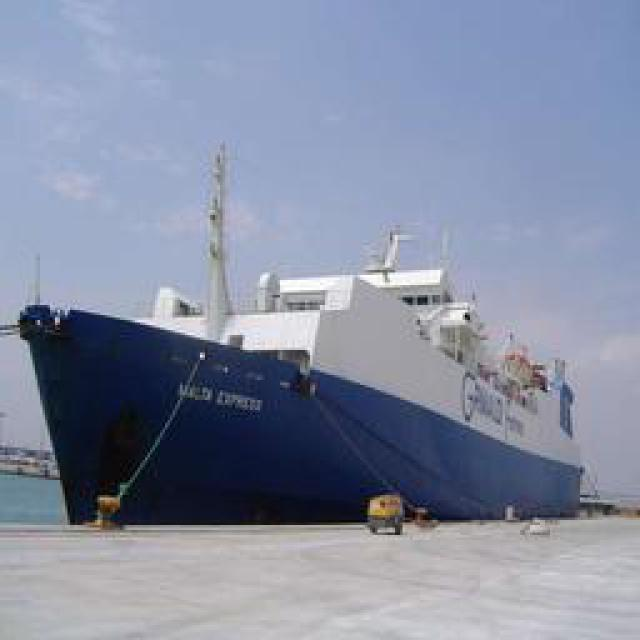Ship: (14, 279, 599, 532)
